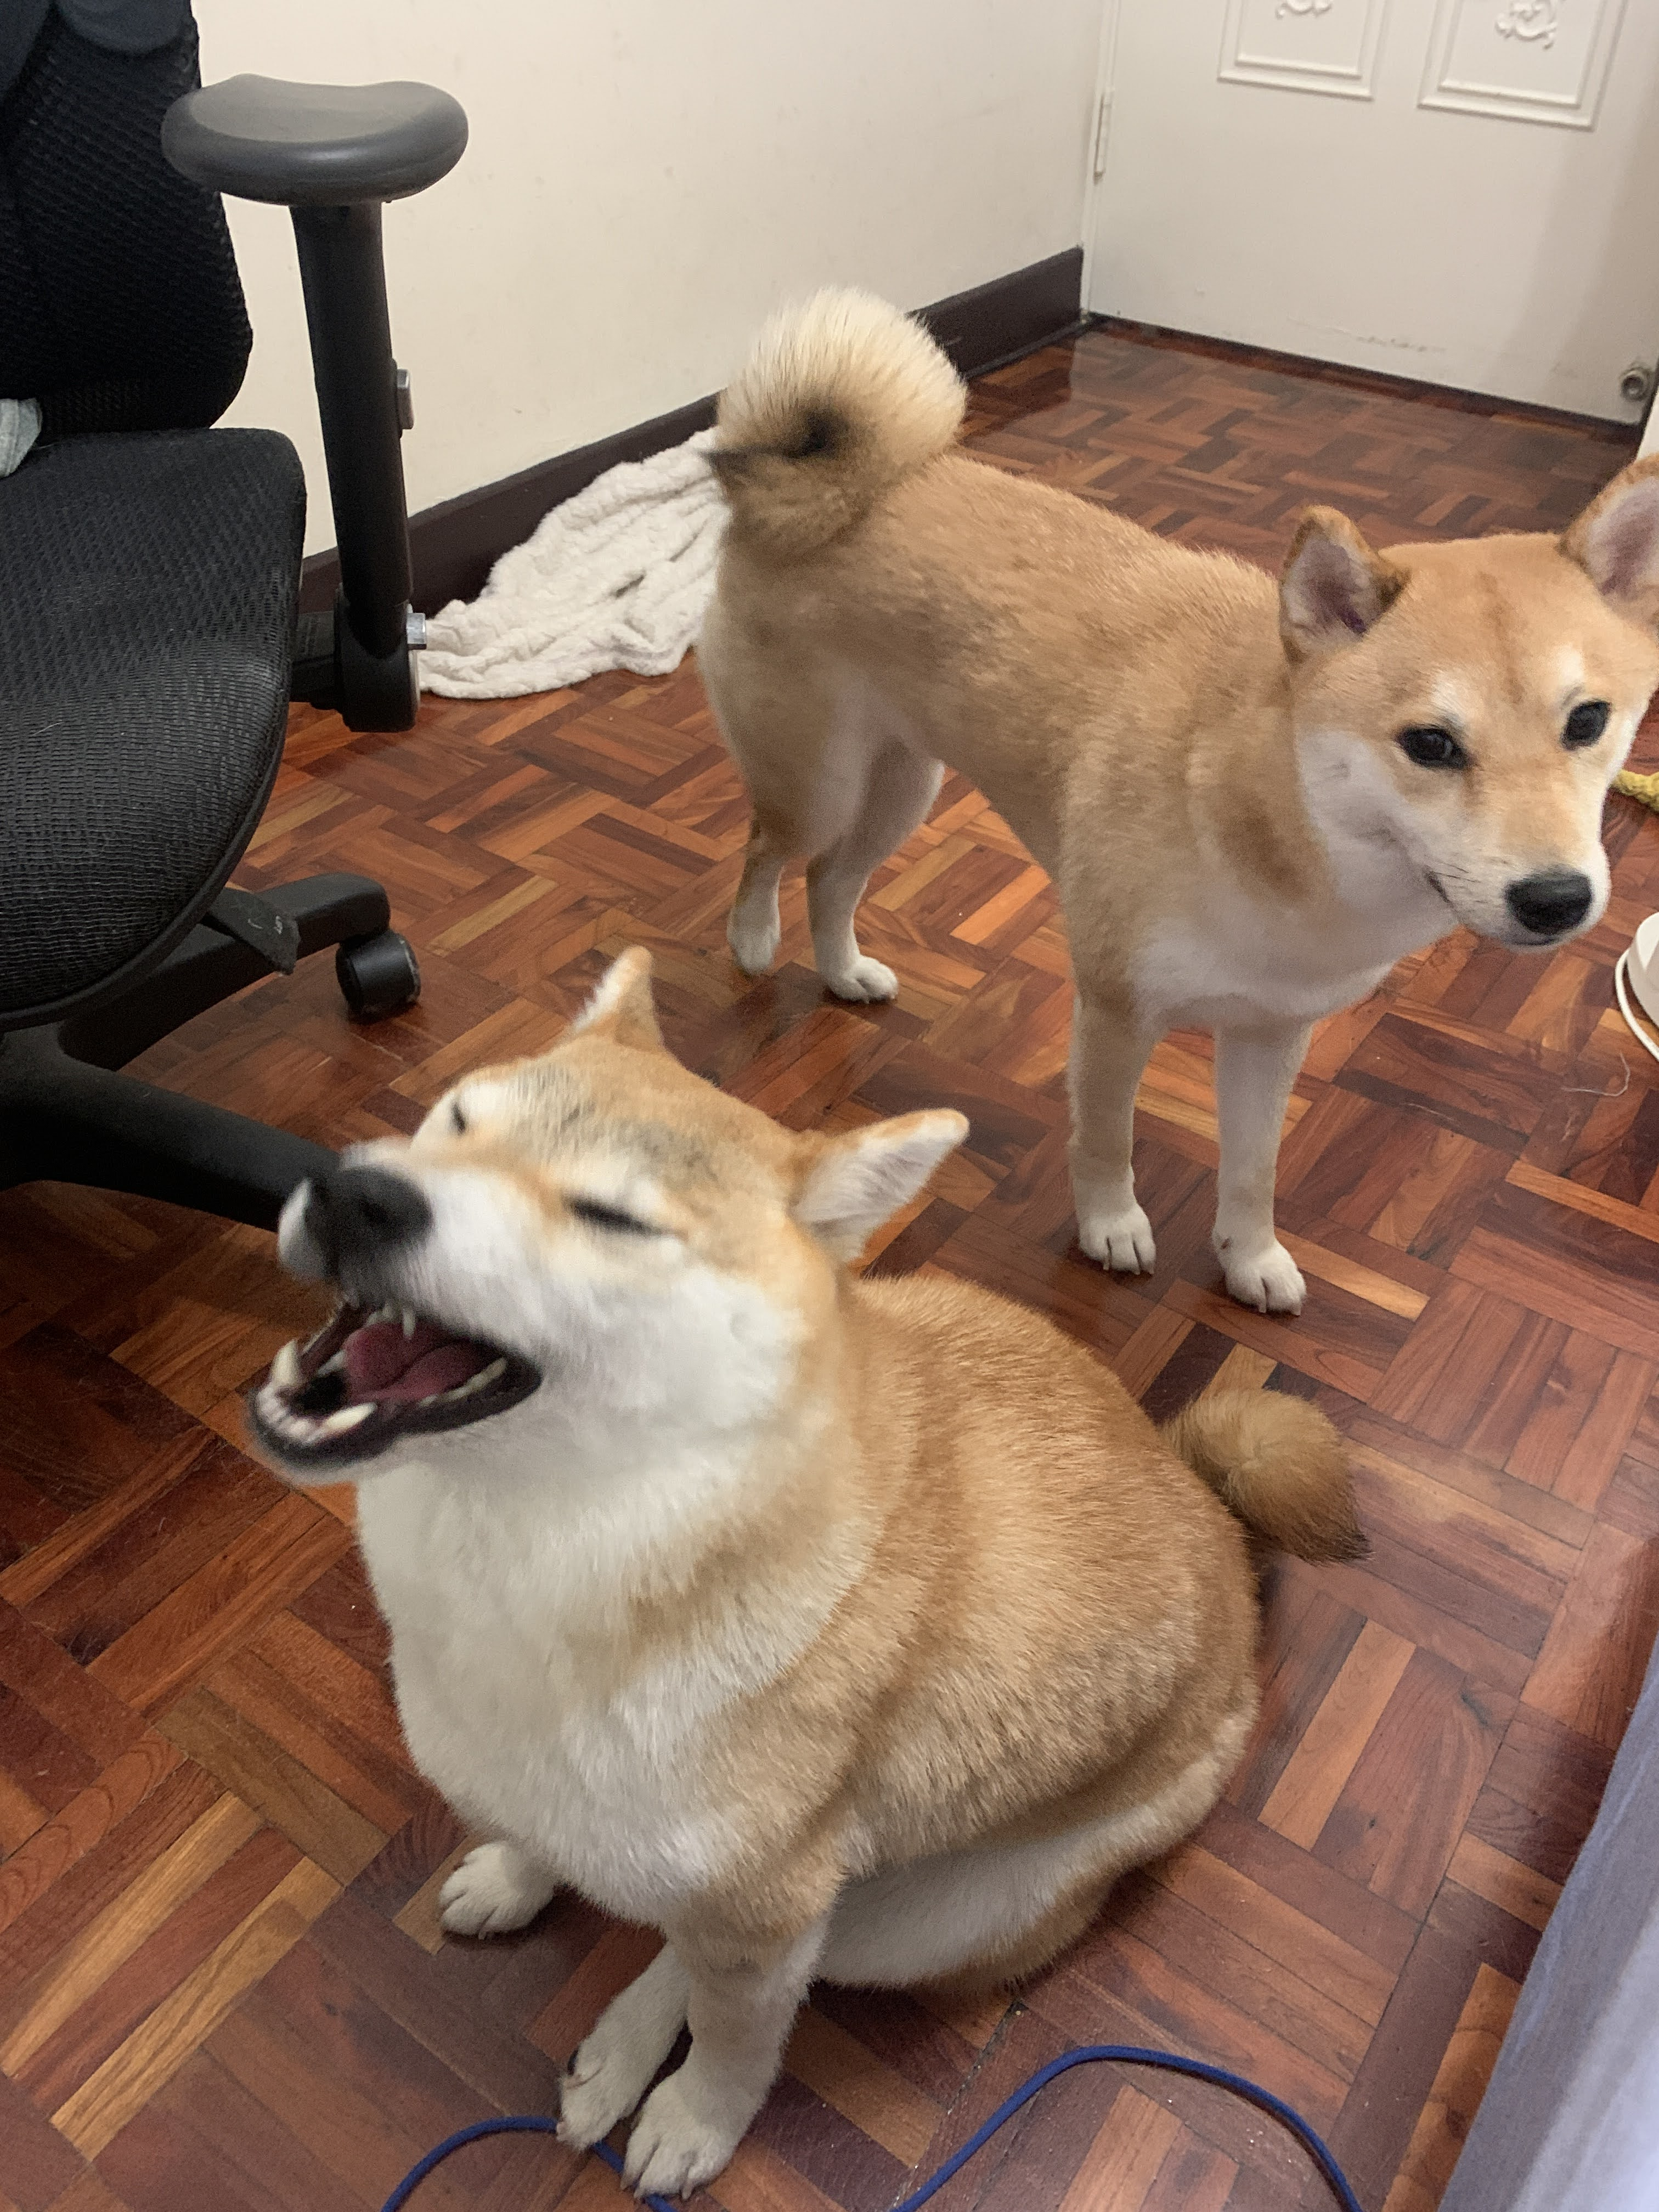Sit down: (223, 1012, 1364, 2191)
Stand up: (671, 249, 1659, 1320)
